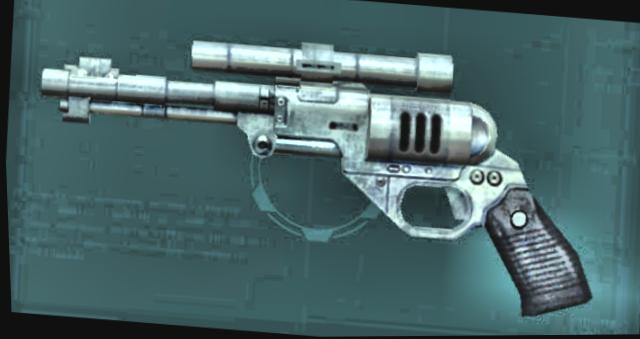pistol: (13, 0, 609, 335)
